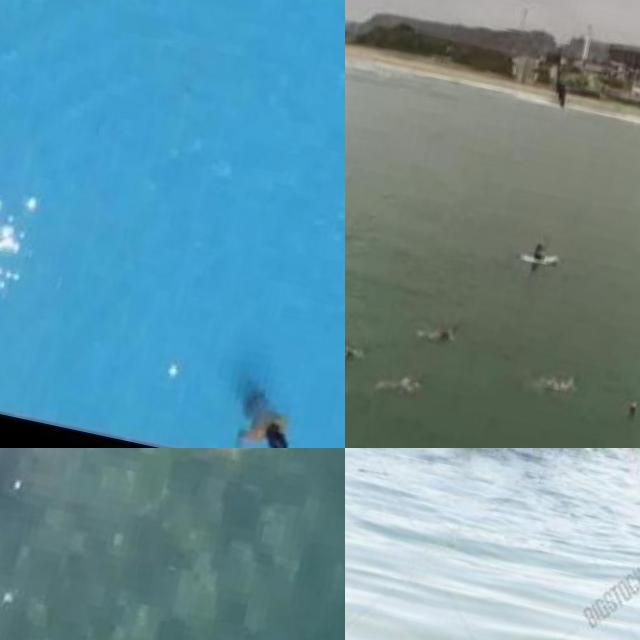swimming: (218, 375, 306, 448), (535, 360, 583, 406), (366, 372, 423, 408), (414, 312, 457, 348), (345, 327, 364, 374)
